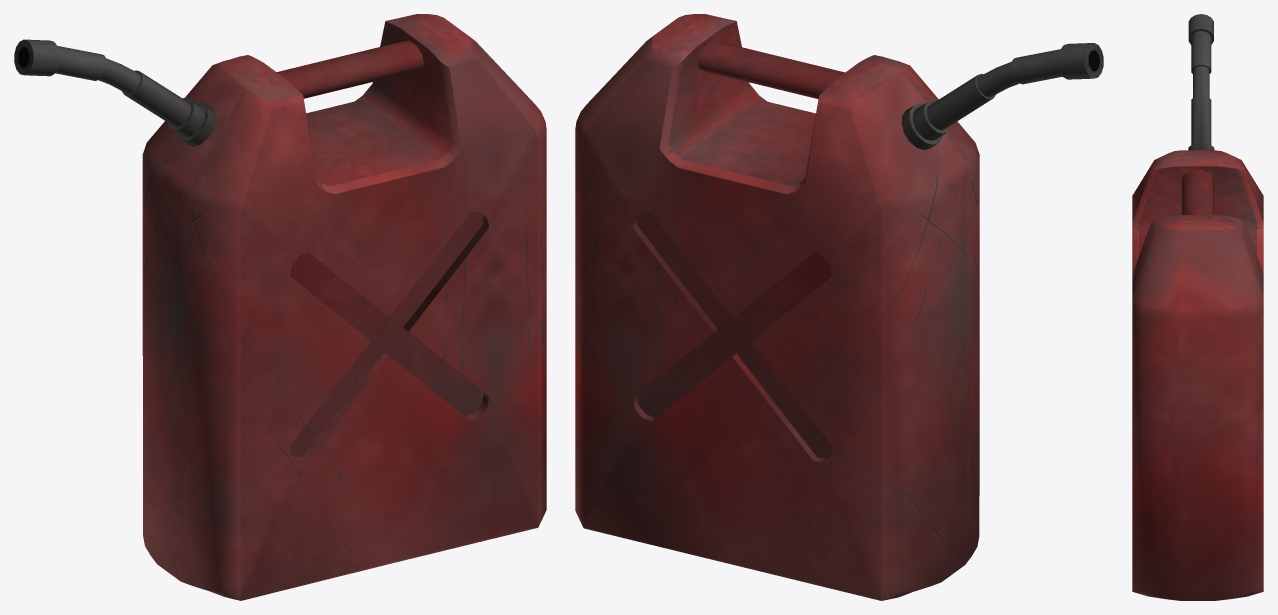
File: o_p_007_gasoline_01_01.fbx
The picture shows the model from 3 angles, left to right: view 1: azimuth 30°, elevation 25°; view 2: azimuth 150°, elevation 25°; view 3: azimuth 270°, elevation 25°; orthographic projection. The views are drawn at different scales.
Parts seen in each view (by area): view 1: gasolinetank; view 2: gasolinetank; view 3: gasolinetank.
Part boxes in pixels (x1,y1,x2,y2): gasolinetank: (14,14,546,600); gasolinetank: (575,14,1103,600); gasolinetank: (1132,14,1263,600).
Bounding box in the file's own units: 51.28 × 56.31 × 16.
1 material, 1 textured.
